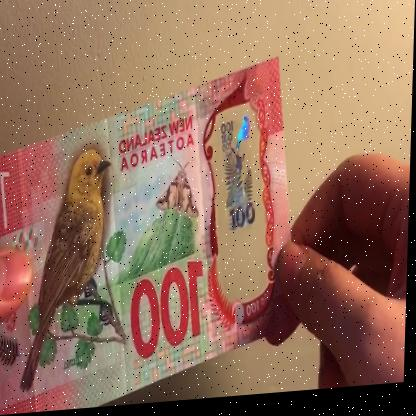100B: (216, 116, 259, 276)
